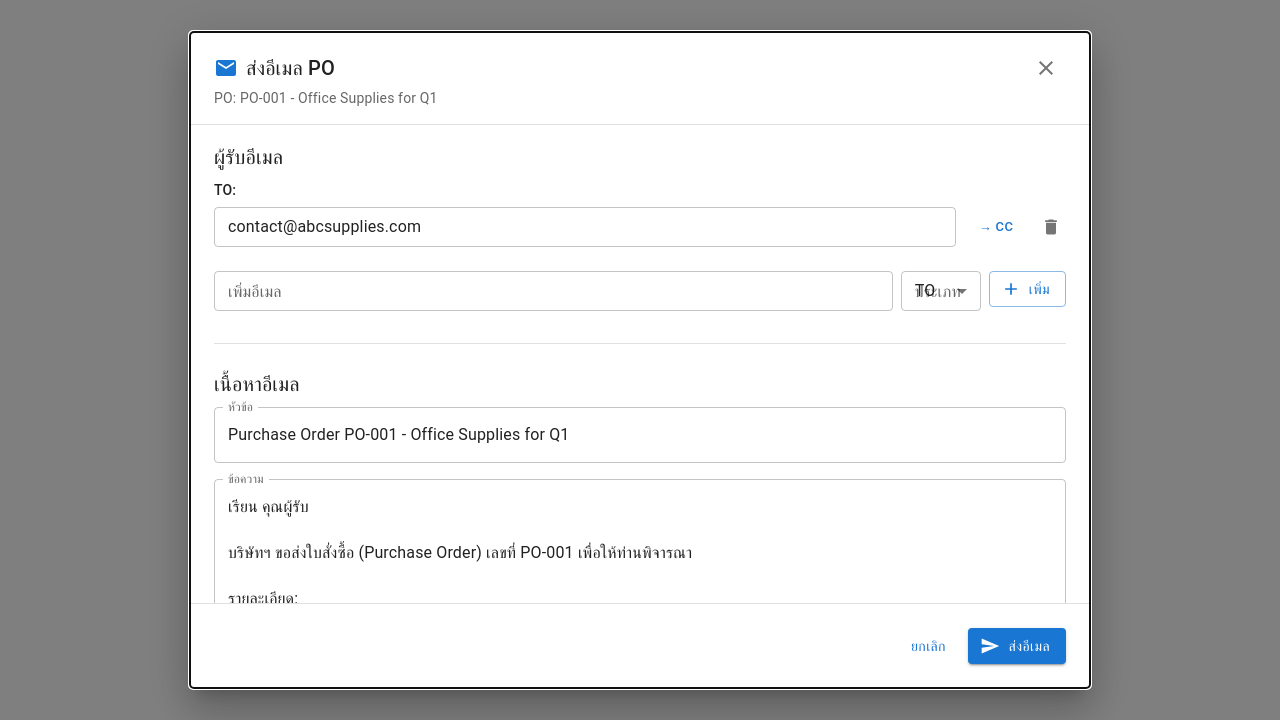
Test: POEmailDialog › validates email format
Type "invalid-email" into the field labelled "เพิ่มอีเมล" at (553, 291), box [214,271,893,311]
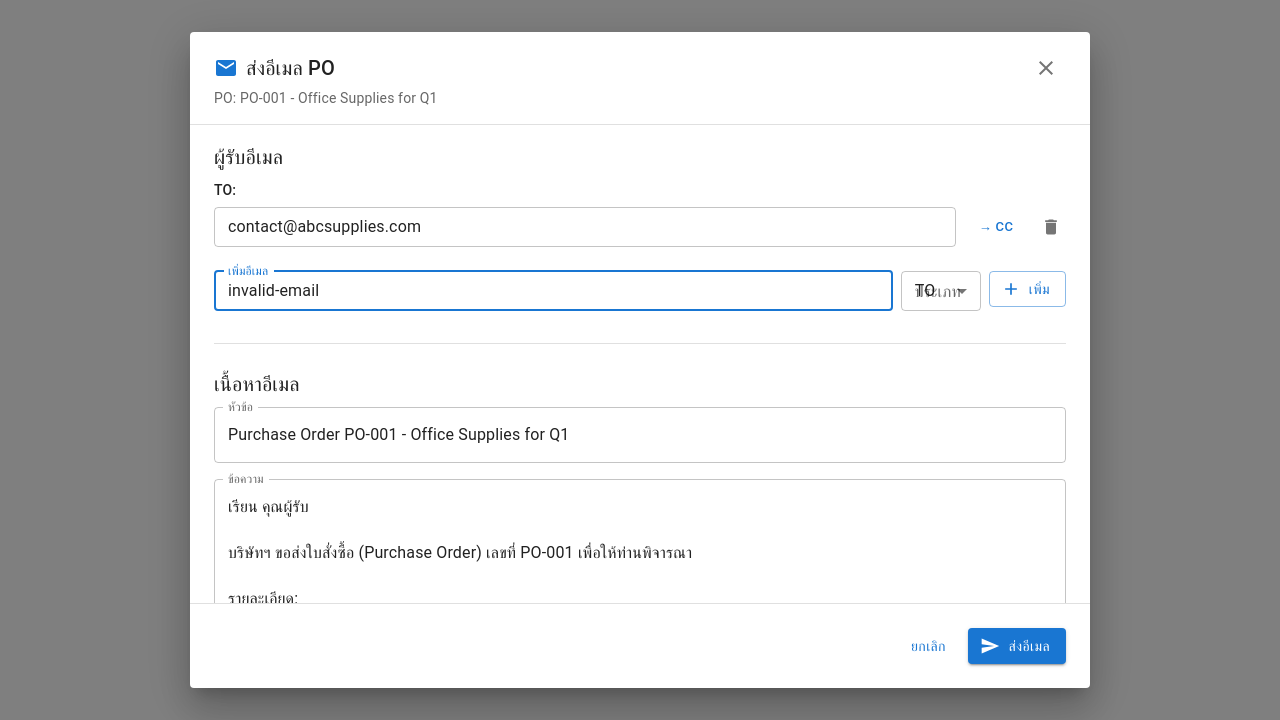
Click the button "เพิ่ม" at (1027, 289), box [989,271,1066,307]
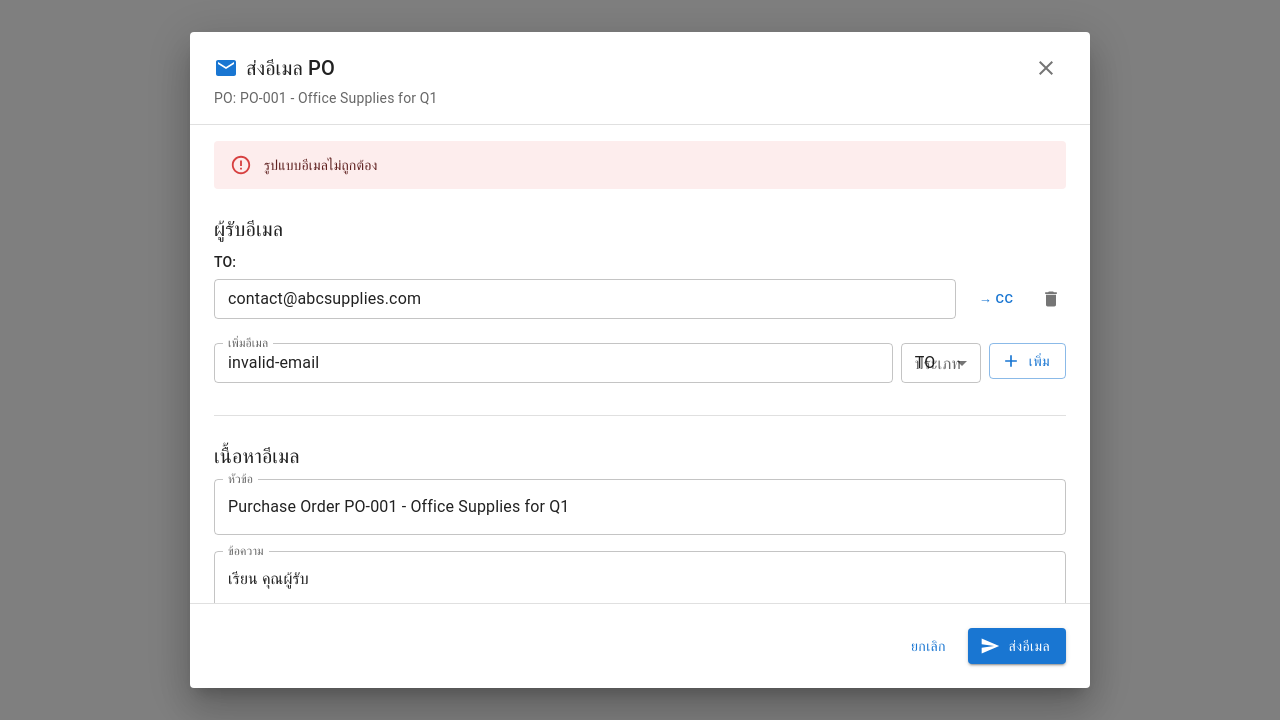
Result: the text "รูปแบบอีเมลไม่ถูกต้อง" is shown at [264,157,378,173]
